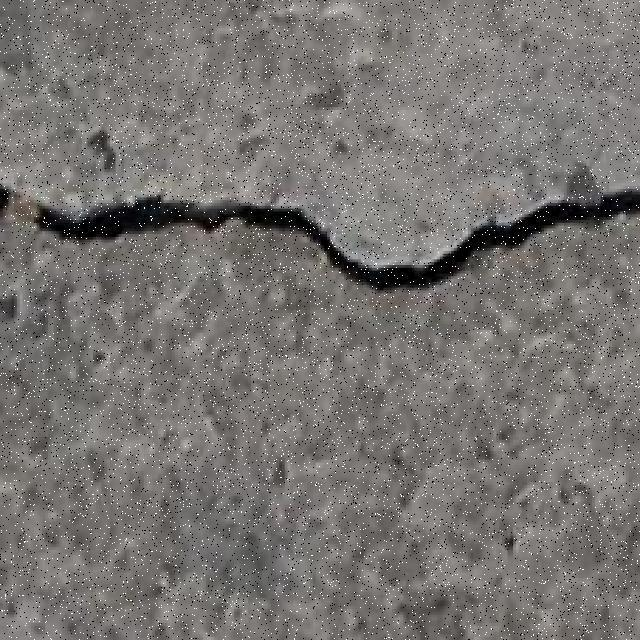leak: (3, 182, 638, 291)
